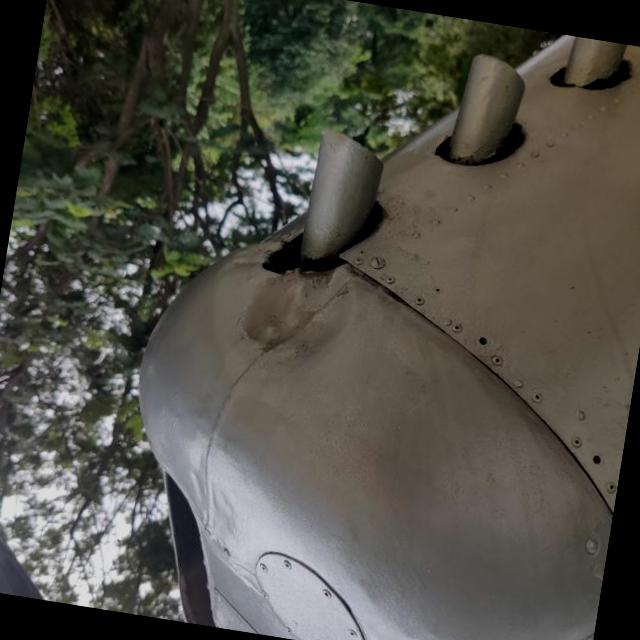dent: (210, 239, 378, 393), (221, 240, 265, 282)
